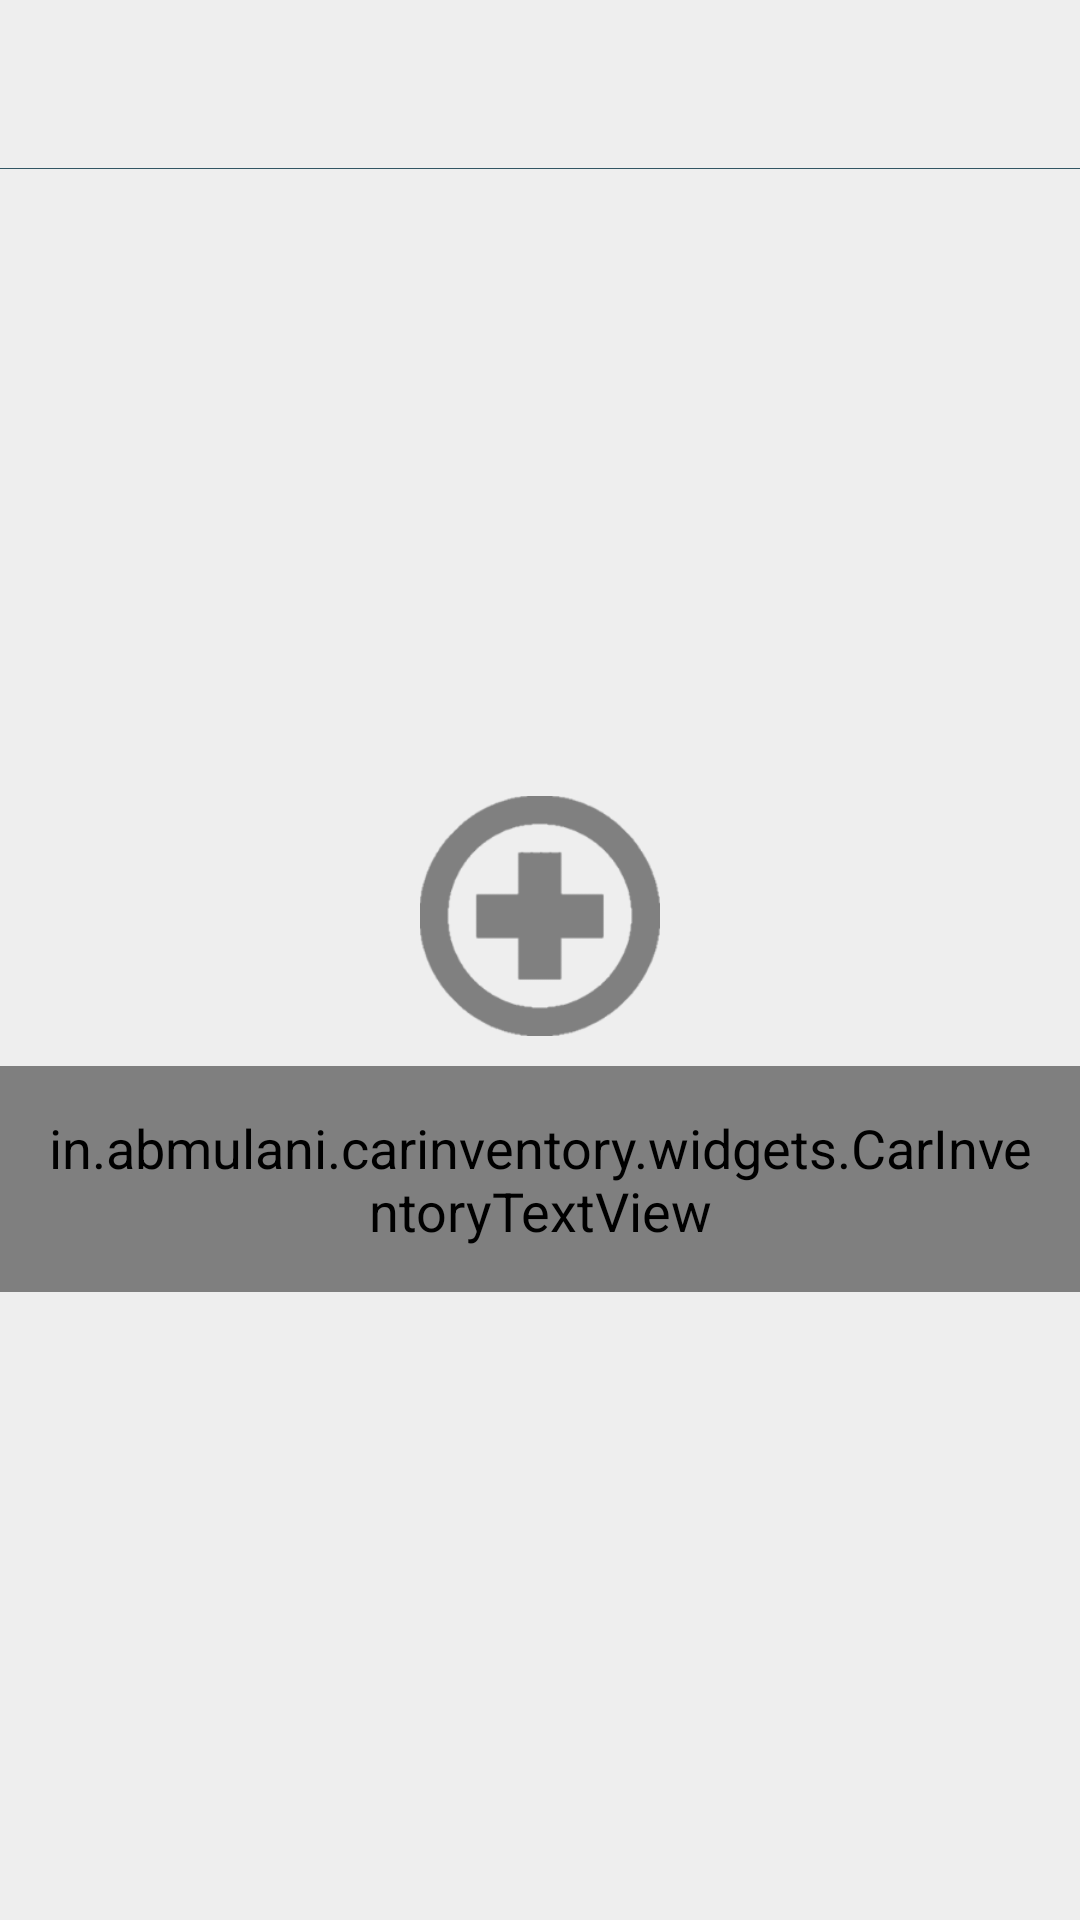

Icons on this 1080 x 1920 Android screen, each with the point to tap as [x,y]:
add car: [540,916]
